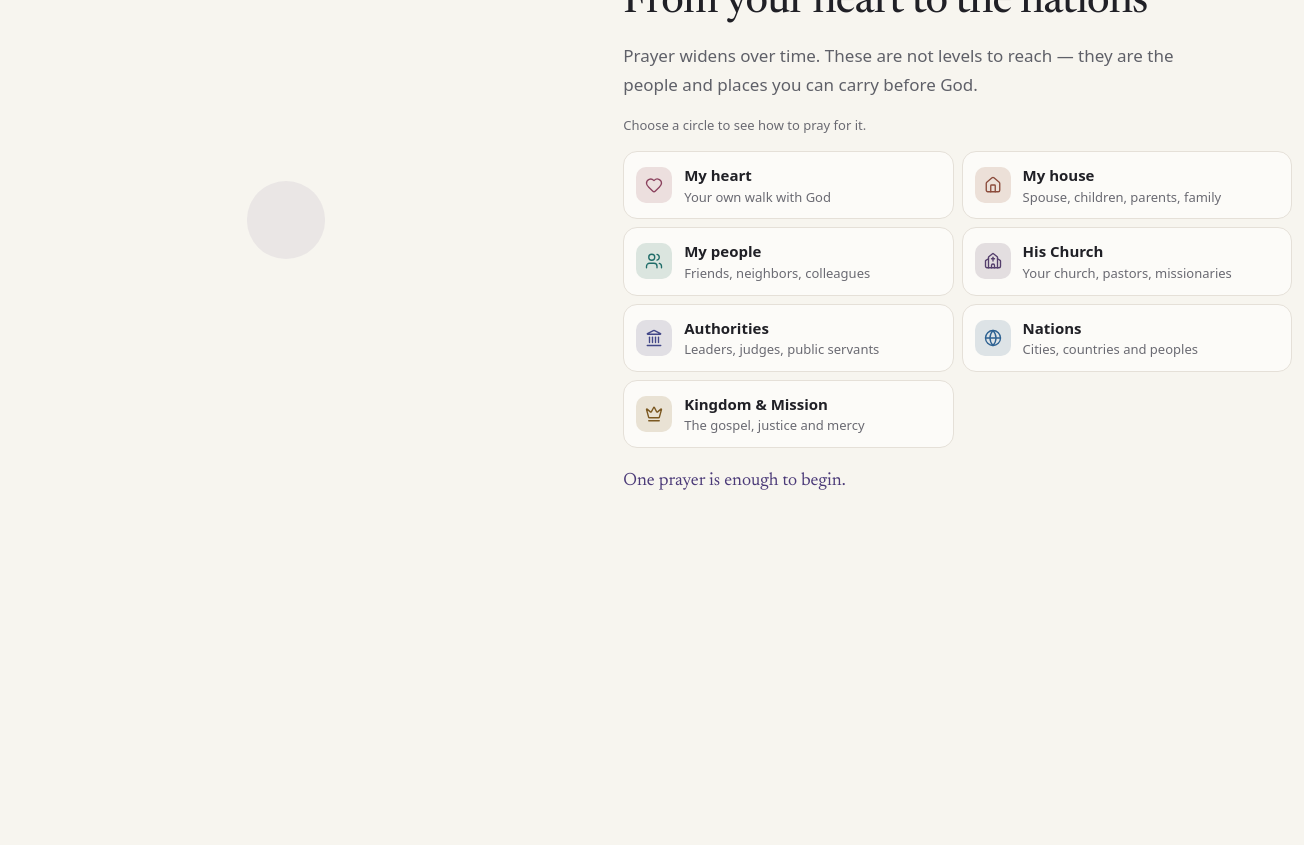
Scenario: LandingCircles › offers the approved deep layer in a production build without review mode
This screenshot has width=1304, height=845.
Click the button "Kingdom & Mission The gospel, justice and mercy" at point(788, 414), box [623,380,954,448]
(page scrolled)
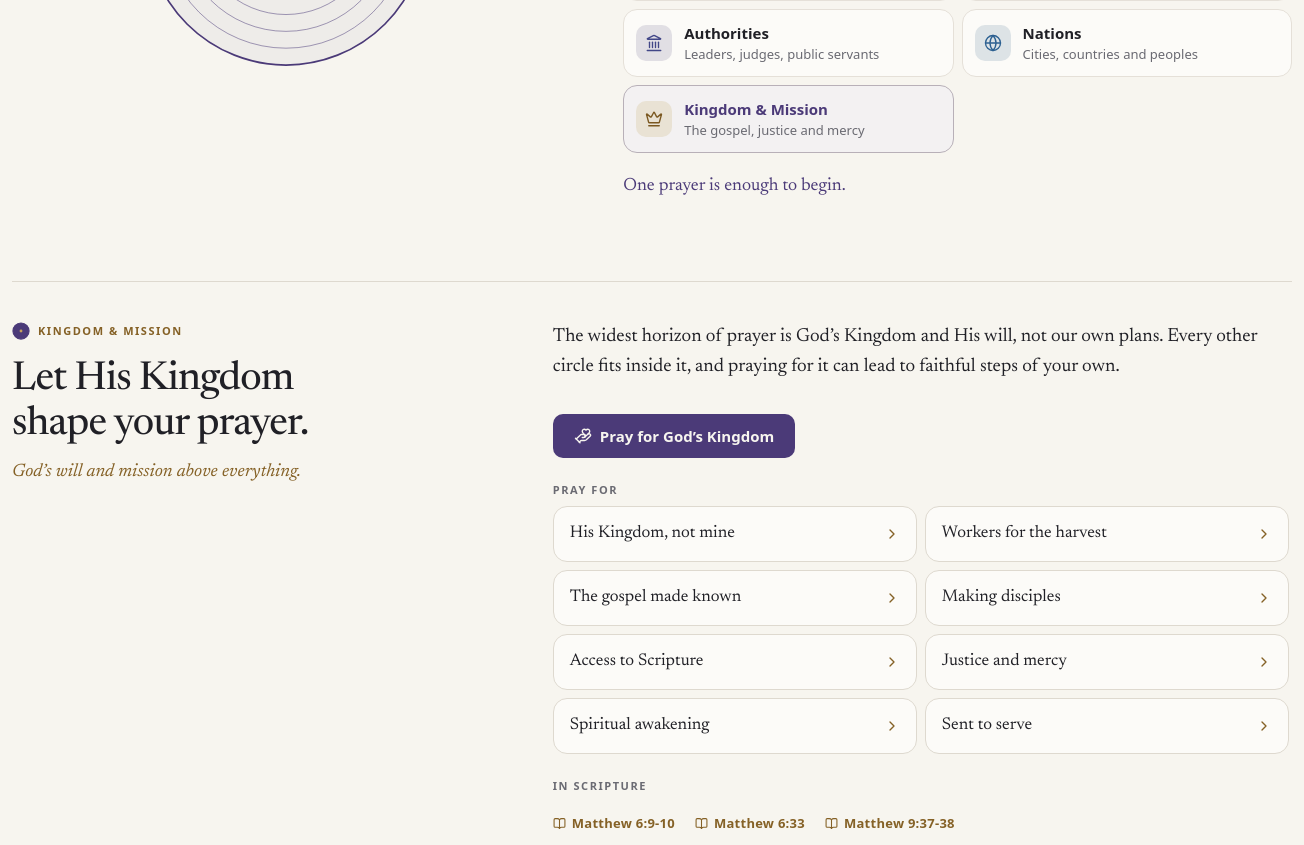
Now the heading "Let His Kingdom shape your prayer." is shown, box [12,360,308,445]
Now the button "His Kingdom, not mine" is shown, box [553,506,917,562]
